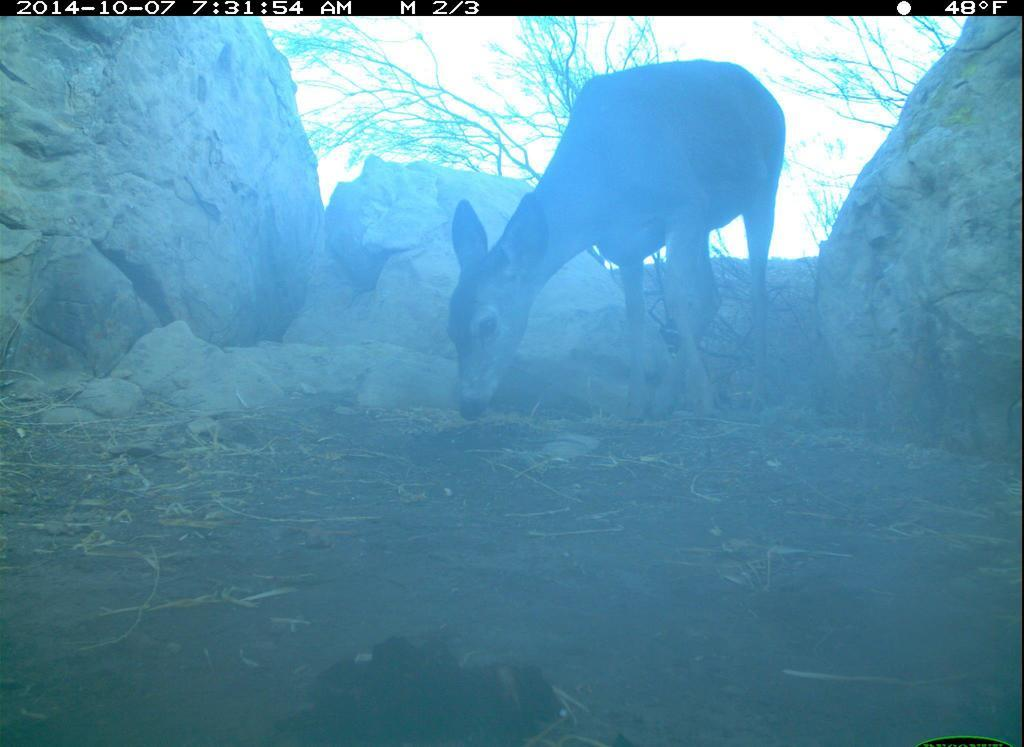deer: (436, 57, 801, 437)
